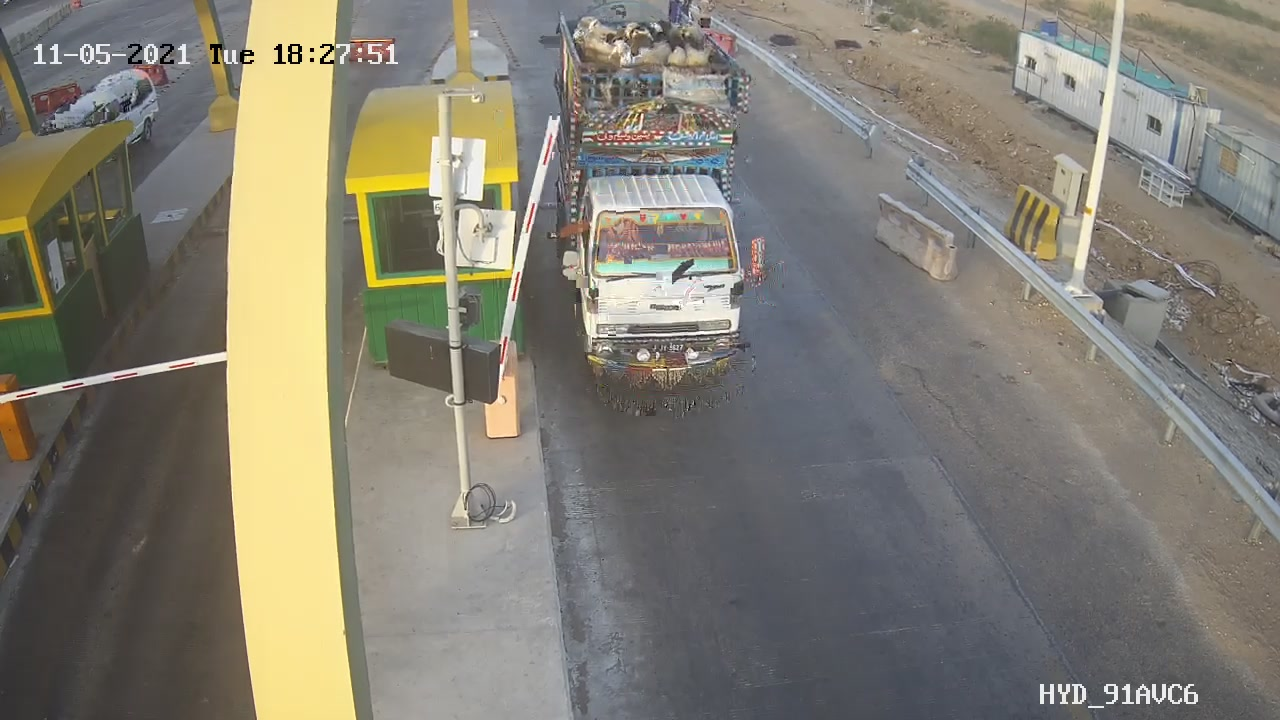F5: (537, 5, 770, 401)
